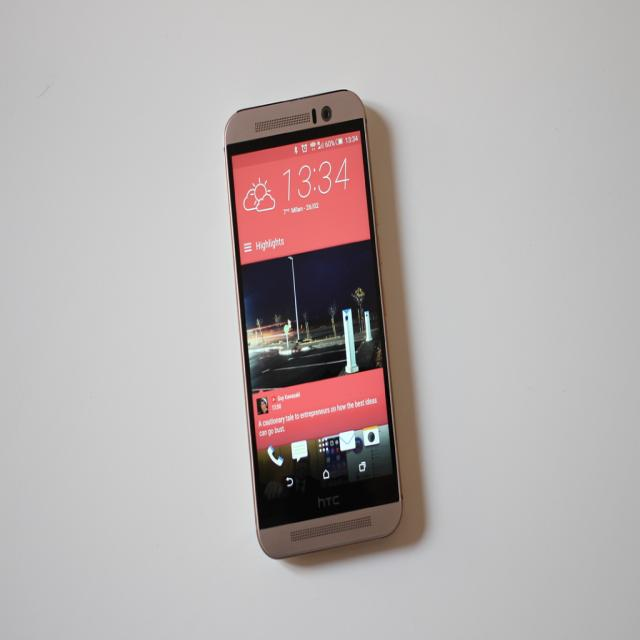Mobile-phone: (224, 76, 415, 575)
